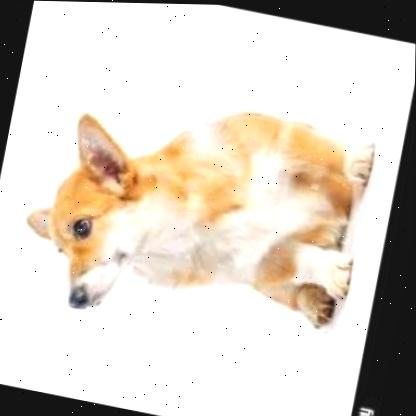dog: (10, 68, 381, 362)
